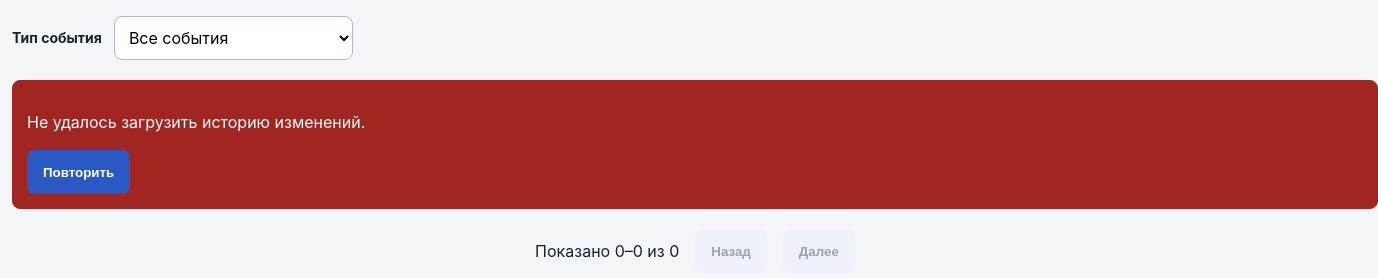
history › shows error and retries
Expected: the message "Не удалось загрузить историю изменений. Повторить" is shown, [12, 80, 1377, 209]
Click the button "Повторить".
click(79, 172)  # box [27, 150, 130, 194]
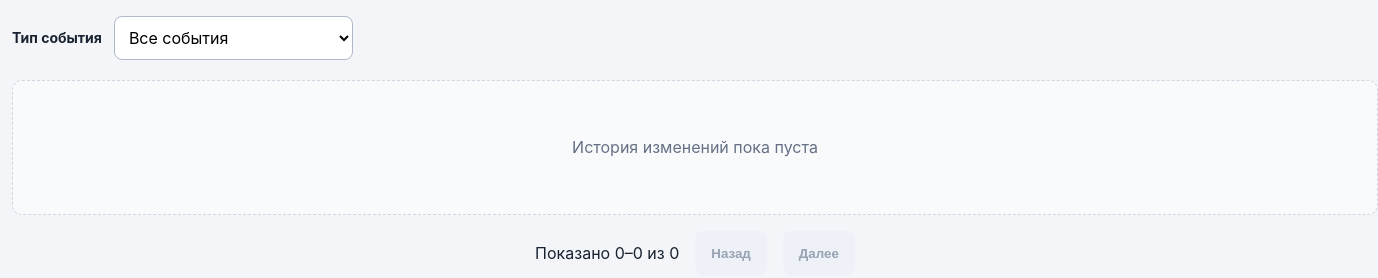
Result: the text "История изменений пока пуста" is shown at [12, 80, 1377, 215]
